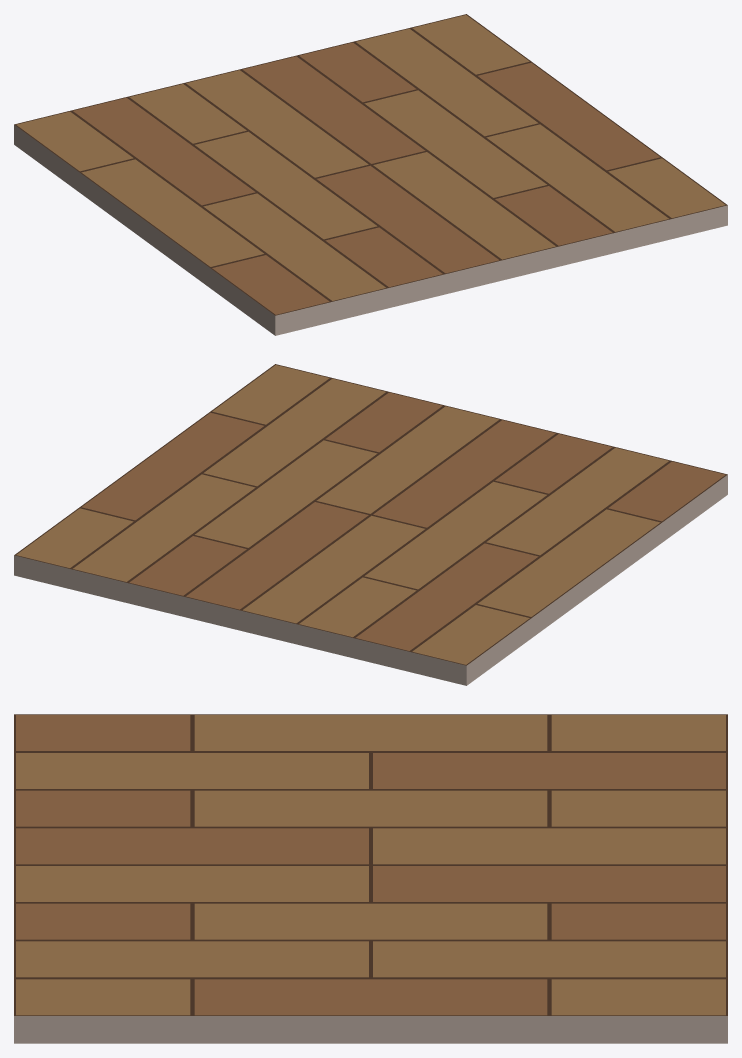
File: Floor_01.fbx
3 renders of one model, top to bottom at view 1: azimuth 30°, elevation 25°; view 2: azimuth 150°, elevation 25°; view 3: azimuth 270°, elevation 25°, orthographic. The views are drawn at different scales.
Visible parts, largest first — view 1: Floor_01; view 2: Floor_01; view 3: Floor_01.
Part boxes in pixels (x1,y1,x2,y2): Floor_01: (14,14,727,335); Floor_01: (14,364,727,685); Floor_01: (14,714,727,1043).
Size of the model in its own units: 259 by 11.07 by 259.
